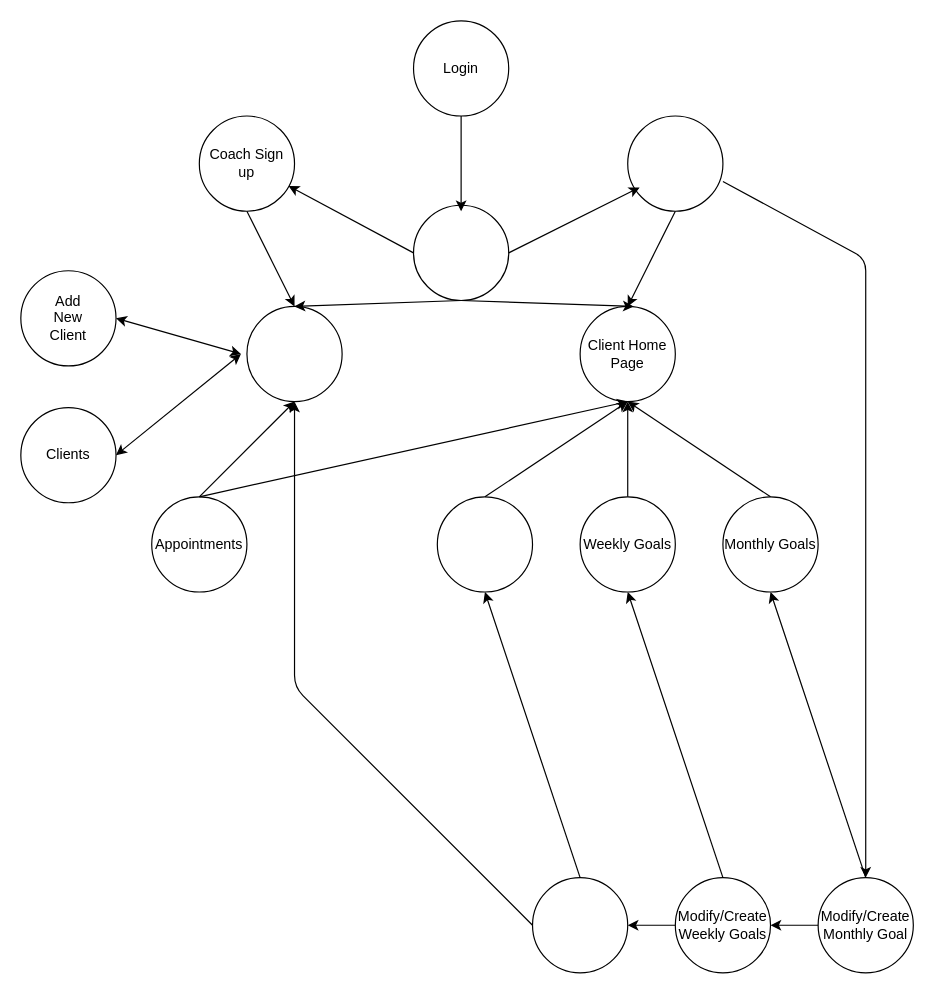
Image size: 934x994. Some labels were removed from this diagram. Here are the shapes that lost their labels. From the top down, the centre of each, then its label:
At pixel 675 163: "Client Sign up".
At pixel 460 252: "Coach or Client".
At pixel 294 353: "Coach Home page".
At pixel 484 544: "Daily Goals".
At pixel 579 924: "Modify/Create Daily Goals".
